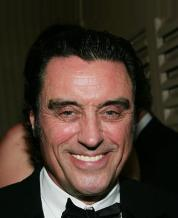face: (51, 98, 124, 172)
